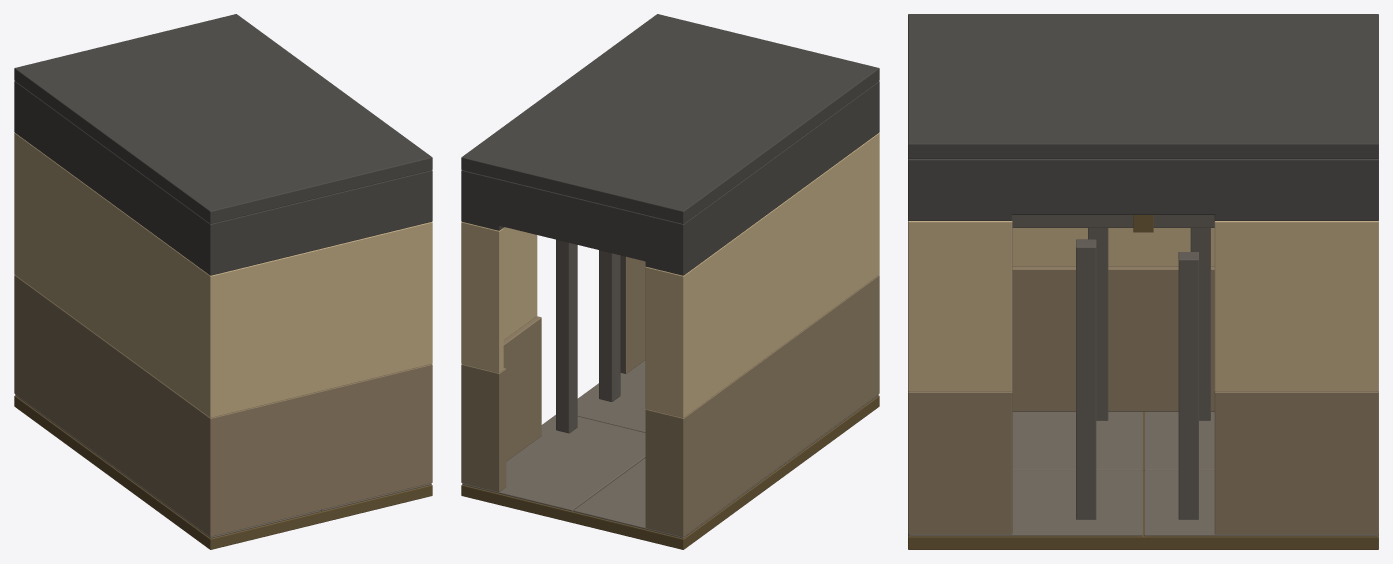
Rendered from gen-shortcut.glb.
3 views of the same model, side by side, from view 1: azimuth 30°, elevation 25°; view 2: azimuth 150°, elevation 25°; view 3: azimuth 270°, elevation 25° (orthographic). The views are drawn at different scales.
Visible parts, largest first — view 1: THE SHORTCUT; view 2: THE SHORTCUT; view 3: THE SHORTCUT.
Part boxes in pixels (x1,y1,x2,y2): THE SHORTCUT: [14, 14, 432, 549]; THE SHORTCUT: [461, 14, 879, 549]; THE SHORTCUT: [908, 14, 1378, 549].
Size of the model in its own units: 1.8 by 2.62 by 2.75.
